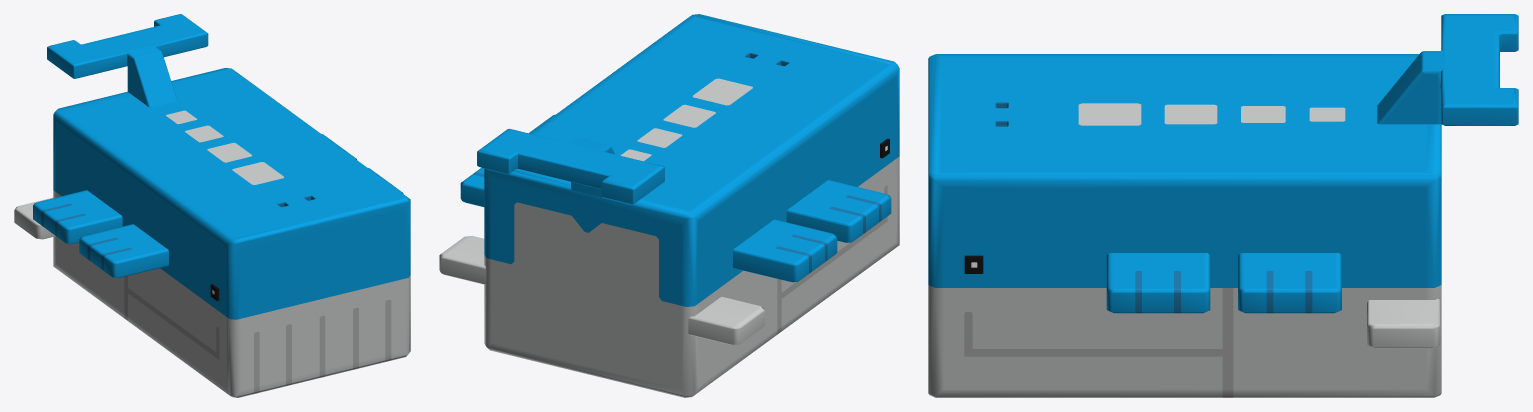
3 renders of one model, left to right at view 1: azimuth 30°, elevation 25°; view 2: azimuth 150°, elevation 25°; view 3: azimuth 270°, elevation 25°, orthographic. The views are drawn at different scales.
Parts seen in each view (by area): view 1: 0321_wailord; view 2: 0321_wailord; view 3: 0321_wailord.
Part boxes in pixels (bbox=[...]): 0321_wailord: bbox=[14, 14, 410, 397]; 0321_wailord: bbox=[439, 14, 899, 397]; 0321_wailord: bbox=[928, 14, 1518, 397].
Bounding box in the file's own units: 3.56 × 2.29 × 4.42.
Materials: 1 (1 with a texture image).
